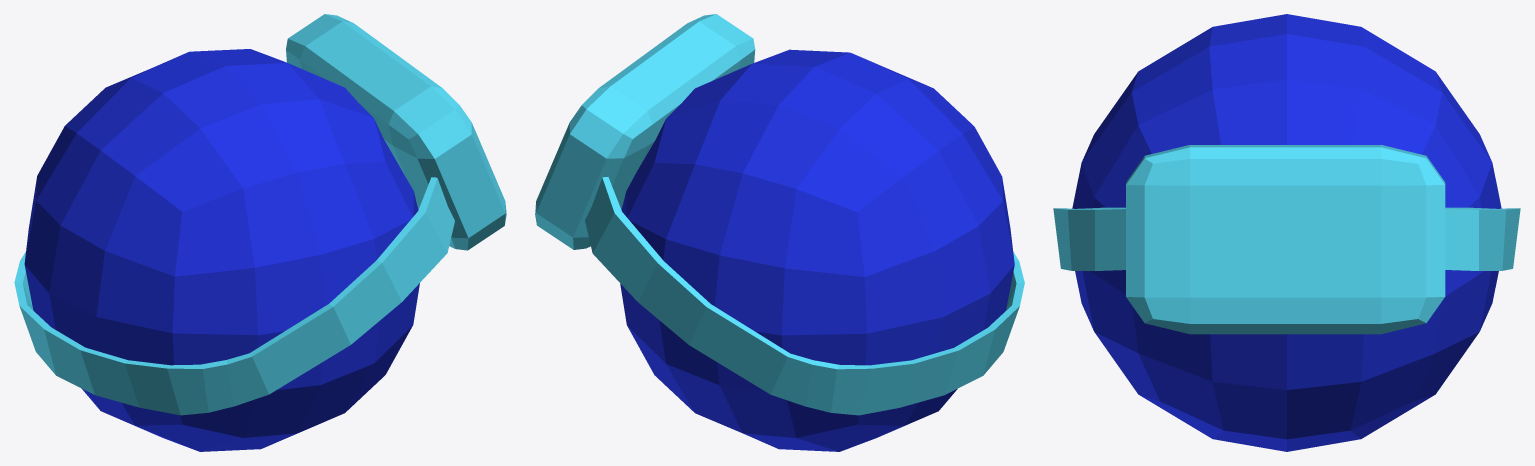
Rendered from ariColored.glb.
3 views of the same model, side by side, from view 1: azimuth 30°, elevation 25°; view 2: azimuth 150°, elevation 25°; view 3: azimuth 270°, elevation 25° (orthographic). The views are drawn at different scales.
Visible parts, largest first — view 1: ari_model, Cube_001, Cube; view 2: ari_model, Cube_001, Cube; view 3: ari_model, Cube, Cube_001.
Part boxes in pixels (box(x1,y1,x2,y2)): ari_model: box(24, 49, 419, 451); Cube_001: box(14, 177, 454, 415); Cube: box(286, 14, 506, 250); ari_model: box(620, 49, 1014, 451); Cube_001: box(585, 177, 1024, 415); Cube: box(535, 14, 755, 249); ari_model: box(1072, 14, 1501, 451); Cube: box(1126, 145, 1445, 334); Cube_001: box(1053, 207, 1520, 270).
Bounding box in the file's own units: 2.29 × 2 × 2.13.
2 materials, 1 textured.
